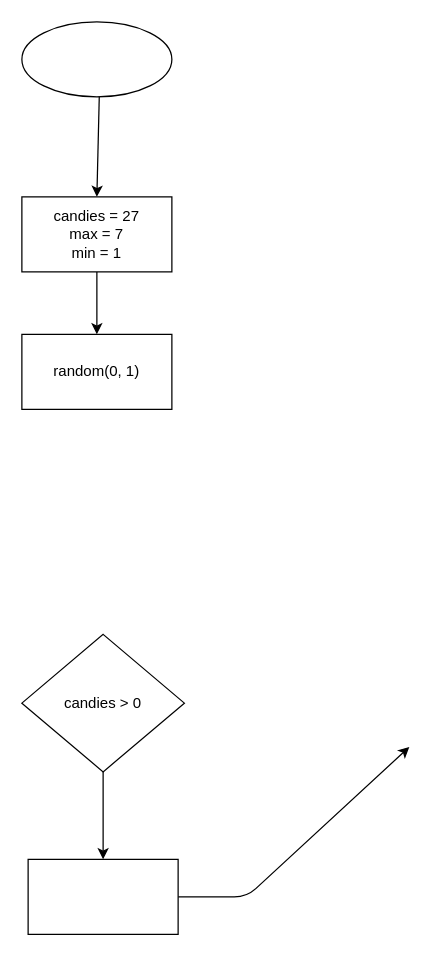
The diagram is 441 pixels wide and 956 high, and some of its shapes have lost their labels. Each missing label, with the centre of its shape:
"prior = candies / max + min" goes at [102,896].
"Start" goes at [96,59].
